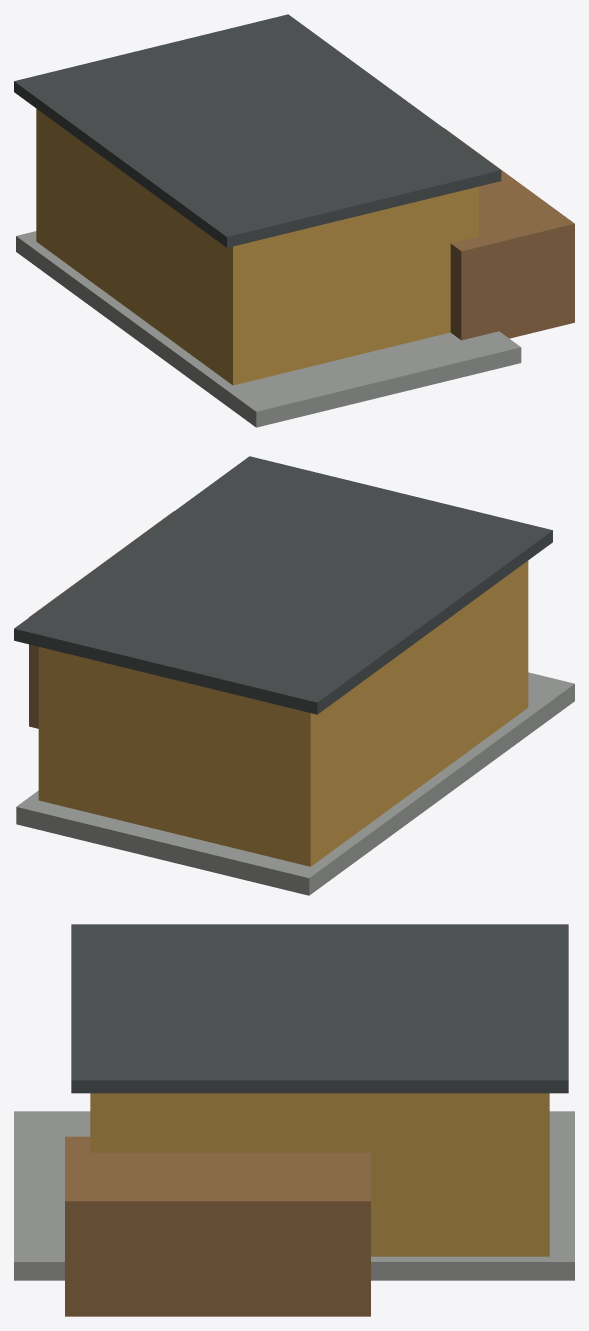
File: norway-sawmill_lod1.glb
3 views of the same model, one above another, from view 1: azimuth 30°, elevation 25°; view 2: azimuth 150°, elevation 25°; view 3: azimuth 270°, elevation 25° (orthographic). The views are drawn at different scales.
Parts seen in each view (by area): view 1: RF_Sawmill_Roof, RF_Sawmill_Hall, RF_Sawmill_Base, RF_Sawmill_Shed; view 2: RF_Sawmill_Roof, RF_Sawmill_Hall, RF_Sawmill_Base, RF_Sawmill_Shed; view 3: RF_Sawmill_Roof, RF_Sawmill_Shed, RF_Sawmill_Hall, RF_Sawmill_Base.
Part boxes in pixels (bbox=[...]): RF_Sawmill_Roof: bbox=[14, 14, 501, 247]; RF_Sawmill_Hall: bbox=[36, 108, 478, 385]; RF_Sawmill_Base: bbox=[16, 231, 521, 427]; RF_Sawmill_Shed: bbox=[444, 128, 574, 340]; RF_Sawmill_Roof: bbox=[14, 456, 552, 714]; RF_Sawmill_Hall: bbox=[38, 560, 528, 866]; RF_Sawmill_Base: bbox=[16, 672, 574, 895]; RF_Sawmill_Shed: bbox=[29, 511, 174, 728]; RF_Sawmill_Roof: bbox=[71, 924, 568, 1093]; RF_Sawmill_Shed: bbox=[65, 1136, 370, 1316]; RF_Sawmill_Hall: bbox=[90, 1093, 549, 1256]; RF_Sawmill_Base: bbox=[14, 1111, 574, 1280].
Bounding box in the file's own units: 18.25 × 8.78 × 22.
